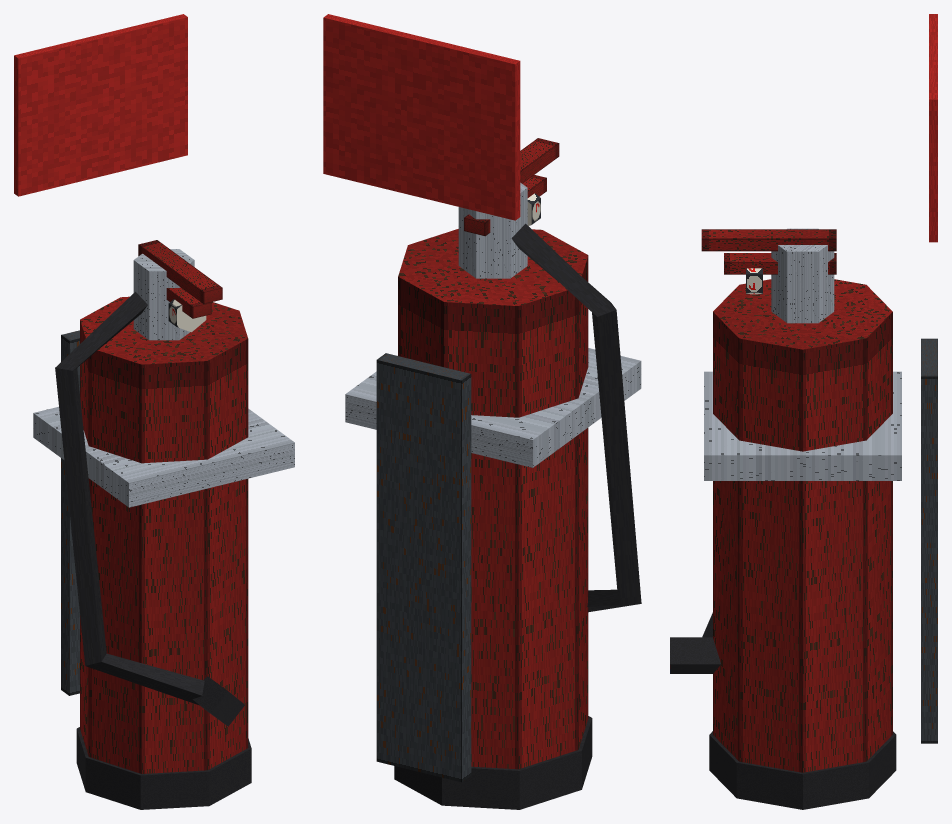
File: fire_extinguisher_habitation_worn.glb
3 views of the same model, side by side, from view 1: azimuth 30°, elevation 25°; view 2: azimuth 150°, elevation 25°; view 3: azimuth 270°, elevation 25° (orthographic). The views are drawn at different scales.
Visible parts, largest first — view 1: fire_extinguisher_habitation_worn; view 2: fire_extinguisher_habitation_worn; view 3: fire_extinguisher_habitation_worn.
Part boxes in pixels (x1,y1,x2,y2): fire_extinguisher_habitation_worn: (14,14,294,809); fire_extinguisher_habitation_worn: (323,14,641,809); fire_extinguisher_habitation_worn: (670,14,937,809).
Size of the model in its own units: 0.2057 by 0.7 by 0.238.
Materials: 8 (8 with a texture image).
